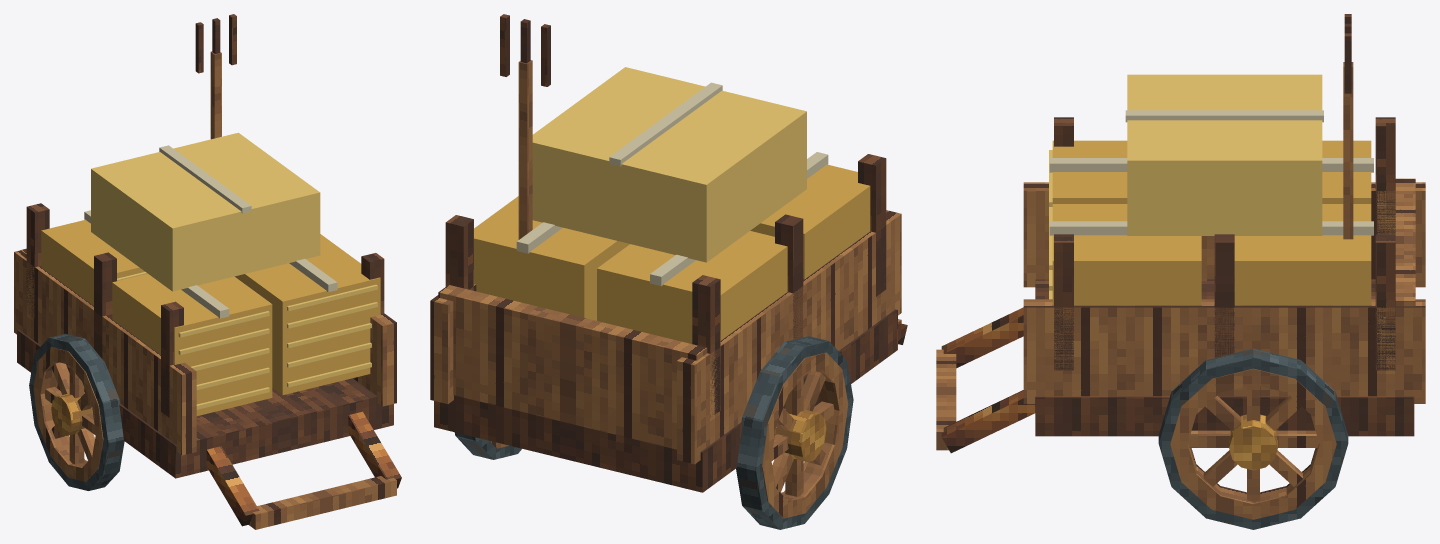
3 views of the same model, side by side, from view 1: azimuth 30°, elevation 25°; view 2: azimuth 150°, elevation 25°; view 3: azimuth 270°, elevation 25° (orthographic). The views are drawn at different scales.
Visible parts, largest first — view 1: body_hay_light, body_hay, body_oak, body_wood_dark, body_iron, body_wood, body_linen, body_oak_light, body_brass; view 2: body_oak, body_hay_light, body_hay, body_wood_dark, body_iron, body_linen, body_oak_light, body_brass; view 3: body_oak, body_hay_light, body_hay, body_wood_dark, body_iron, body_linen, body_oak_light, body_wood, body_brass.
Boxes of the visible parts, left/top/right/bottom form: body_hay_light: left=91, top=132, right=377, bottom=409; body_hay: left=41, top=219, right=380, bottom=415; body_oak: left=14, top=51, right=396, bottom=529; body_wood_dark: left=17, top=14, right=393, bottom=478; body_iron: left=29, top=333, right=124, bottom=490; body_wood: left=206, top=411, right=401, bottom=526; body_linen: left=84, top=145, right=337, bottom=318; body_oak_light: left=44, top=362, right=95, bottom=464; body_brass: left=51, top=392, right=92, bottom=435; body_oak: left=430, top=60, right=901, bottom=518; body_hay_light: left=532, top=67, right=806, bottom=262; body_hay: left=474, top=164, right=870, bottom=343; body_wood_dark: left=434, top=14, right=897, bottom=492; body_iron: left=454, top=336, right=853, bottom=529; body_linen: left=516, top=82, right=828, bottom=286; body_oak_light: left=771, top=371, right=834, bottom=496; body_brass: left=774, top=409, right=826, bottom=461; body_oak: left=936, top=62, right=1425, bottom=519; body_hay_light: left=1049, top=74, right=1322, bottom=299; body_hay: left=1052, top=140, right=1371, bottom=305; body_wood_dark: left=1035, top=14, right=1414, bottom=436; body_iron: left=1158, top=348, right=1348, bottom=529; body_linen: left=1049, top=110, right=1373, bottom=235; body_oak_light: left=1188, top=384, right=1318, bottom=501; body_wood: left=941, top=307, right=1035, bottom=453; body_brass: left=1229, top=414, right=1277, bottom=470.
Bounding box in the file's own units: 1.27 × 1.8 × 1.71.
Materials: 9 (6 with a texture image).
